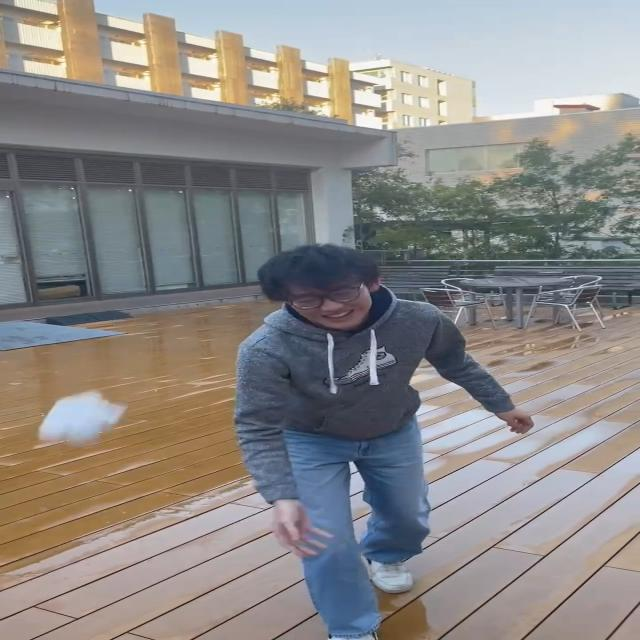paper: (38, 388, 130, 447)
